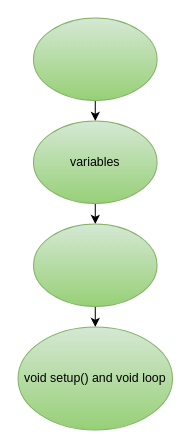
This 191x448 diagram has some shape labels left out. The shapes that lost their labels are listed below. From the top down, each one's centre as x and y in pixels, then its label:
At (94,58): "Start".
At (94,264): "functions".
